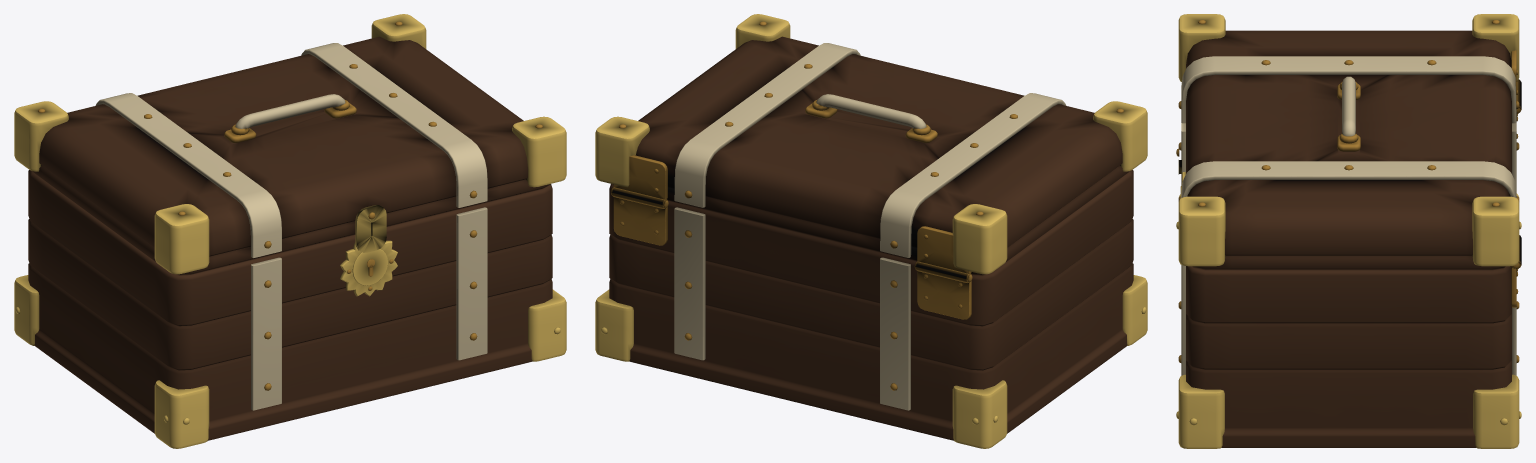
File: trunk_main.glb
3 renders of one model, left to right at view 1: azimuth 30°, elevation 25°; view 2: azimuth 150°, elevation 25°; view 3: azimuth 270°, elevation 25°, orthographic. The views are drawn at different scales.
Visible parts, largest first — view 1: Trunk_Lid, Trunk_Body, Trunk_Strap, Trunk_CornerGuard, Trunk_Latch, Trunk_Handle; view 2: Trunk_Lid, Trunk_Body, Trunk_Strap, Trunk_CornerGuard, Trunk_Hinge, Trunk_Handle; view 3: Trunk_Lid, Trunk_Body, Trunk_CornerGuard, Trunk_Strap, Trunk_Handle, Trunk_Hinge.
Boxes of the visible parts, x1=… form: Trunk_Lid: x1=14, y1=14, x2=566, y2=275; Trunk_Body: x1=28, y1=170, x2=552, y2=440; Trunk_Strap: x1=251, y1=207, x2=487, y2=410; Trunk_CornerGuard: x1=14, y1=275, x2=566, y2=448; Trunk_Latch: x1=340, y1=240, x2=397, y2=296; Trunk_Handle: x1=224, y1=94, x2=356, y2=142; Trunk_Lid: x1=595, y1=14, x2=1147, y2=275; Trunk_Body: x1=609, y1=170, x2=1133, y2=440; Trunk_Strap: x1=674, y1=207, x2=910, y2=410; Trunk_CornerGuard: x1=595, y1=275, x2=1147, y2=448; Trunk_Hinge: x1=611, y1=187, x2=972, y2=319; Trunk_Handle: x1=805, y1=94, x2=937, y2=142; Trunk_Lid: x1=1176, y1=14, x2=1519, y2=270; Trunk_Body: x1=1186, y1=266, x2=1511, y2=447; Trunk_CornerGuard: x1=1176, y1=193, x2=1521, y2=448; Trunk_Strap: x1=1178, y1=123, x2=1519, y2=375; Trunk_Handle: x1=1337, y1=76, x2=1360, y2=151; Trunk_Hinge: x1=1511, y1=79, x2=1521, y2=307.
Size of the model in its own units: 0.35 by 0.1998 by 0.25.
